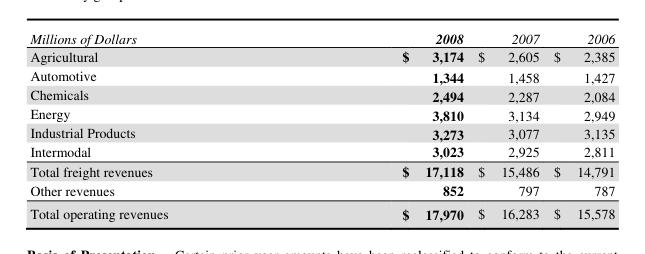table: (29, 29, 614, 223)
table column: (29, 29, 284, 223), (284, 29, 470, 223), (470, 29, 545, 223), (545, 29, 614, 223)
table column header: (29, 29, 614, 47)
table row: (29, 201, 614, 223), (29, 180, 614, 201), (29, 65, 614, 85), (29, 160, 614, 180), (29, 85, 614, 104), (29, 104, 614, 123), (29, 123, 614, 142), (29, 29, 614, 47), (29, 47, 614, 65), (29, 142, 614, 160)
